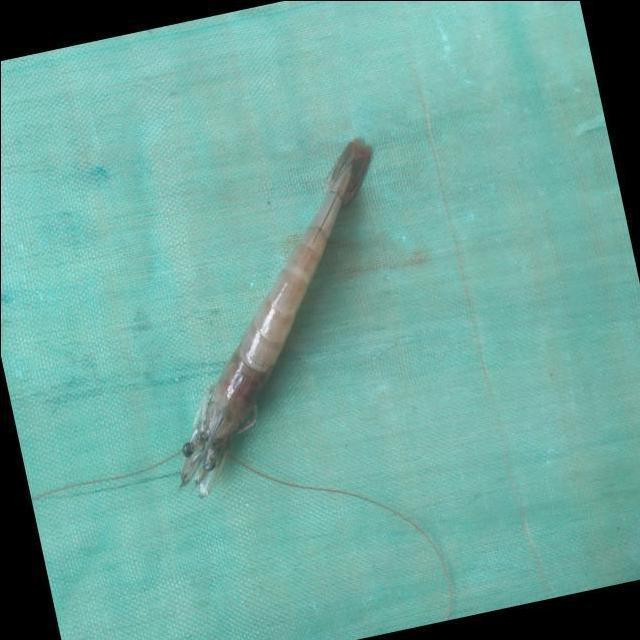shrimp: (180, 139, 371, 498)
